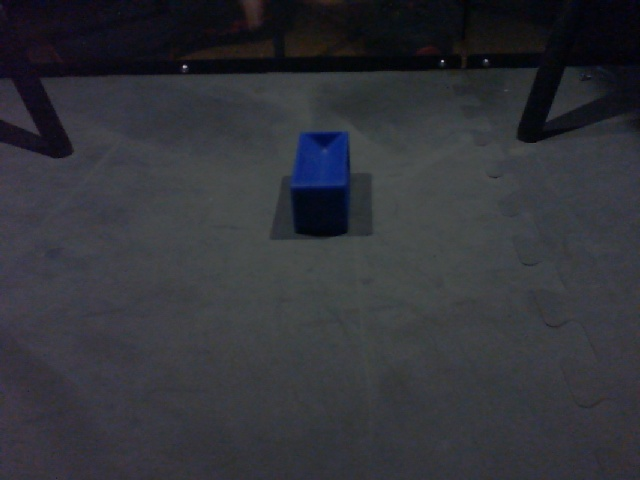BlueSample: (287, 128, 353, 236)
